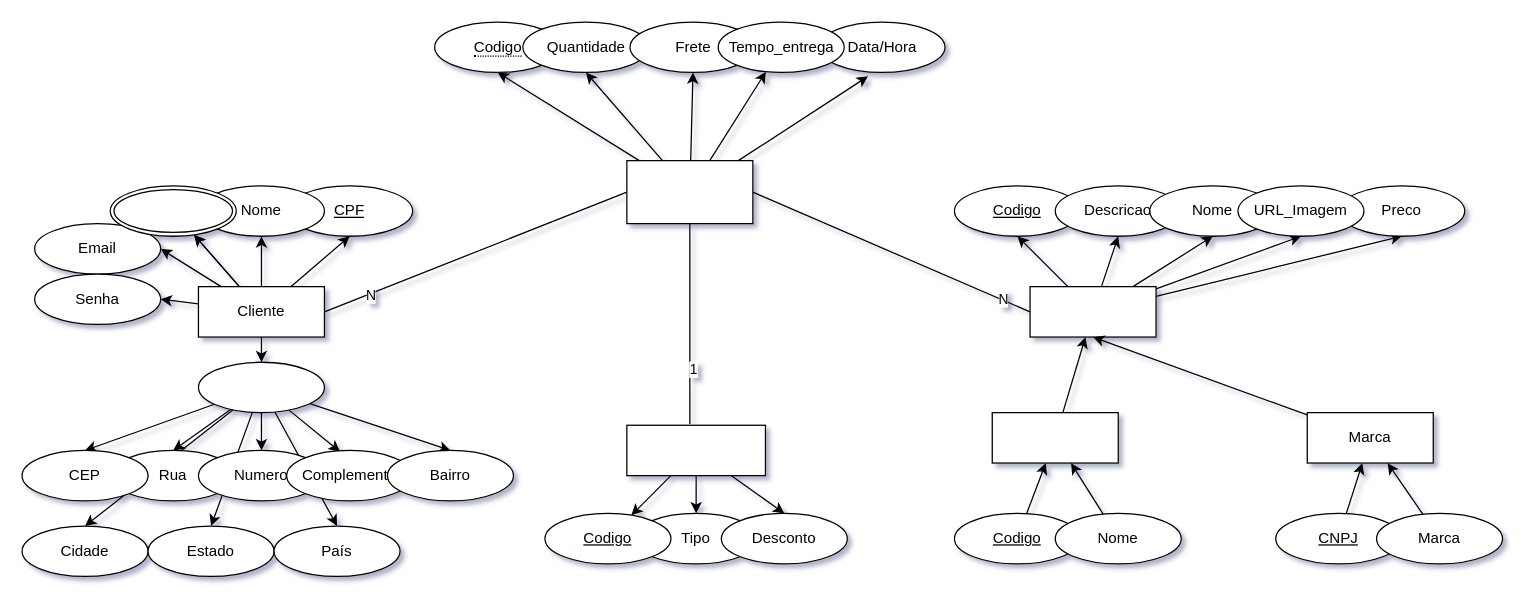
This 1532x606 diagram has some shape labels left out. Each missing label, with the centre of its shape:
Categoria: the point at 1054,437
Compra: the point at 689,191
Endereço: the point at 260,387
Forma_pagamento: the point at 695,450
Produto: the point at 1092,311
Telefones: the point at 172,210
